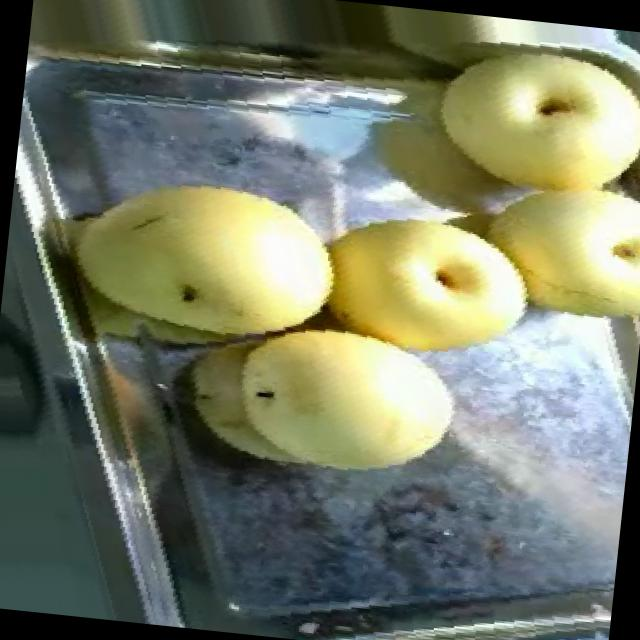Fruit: (38, 134, 361, 398), (157, 275, 478, 523), (288, 180, 556, 389), (412, 10, 640, 226)
